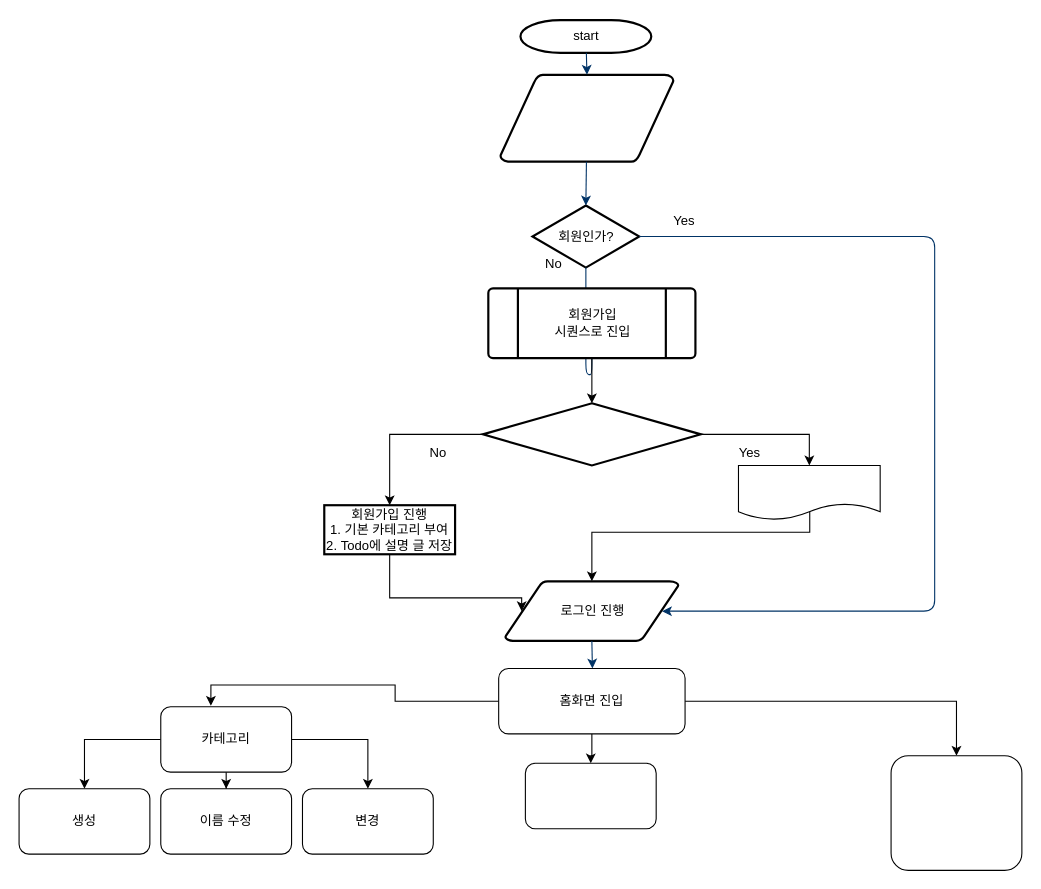
This 1041x889 diagram has some shape labels left out. Each missing label, with the centre of its shape:
alert 창 (중복된 유저): (808,492)
TodoList 보기: (590,795)
앱으로 진입: (586,117)
중복 데이터가 있는가?: (591,434)
통계보기 투두 리스트 완성도 월, 주, 일별: (956,812)
